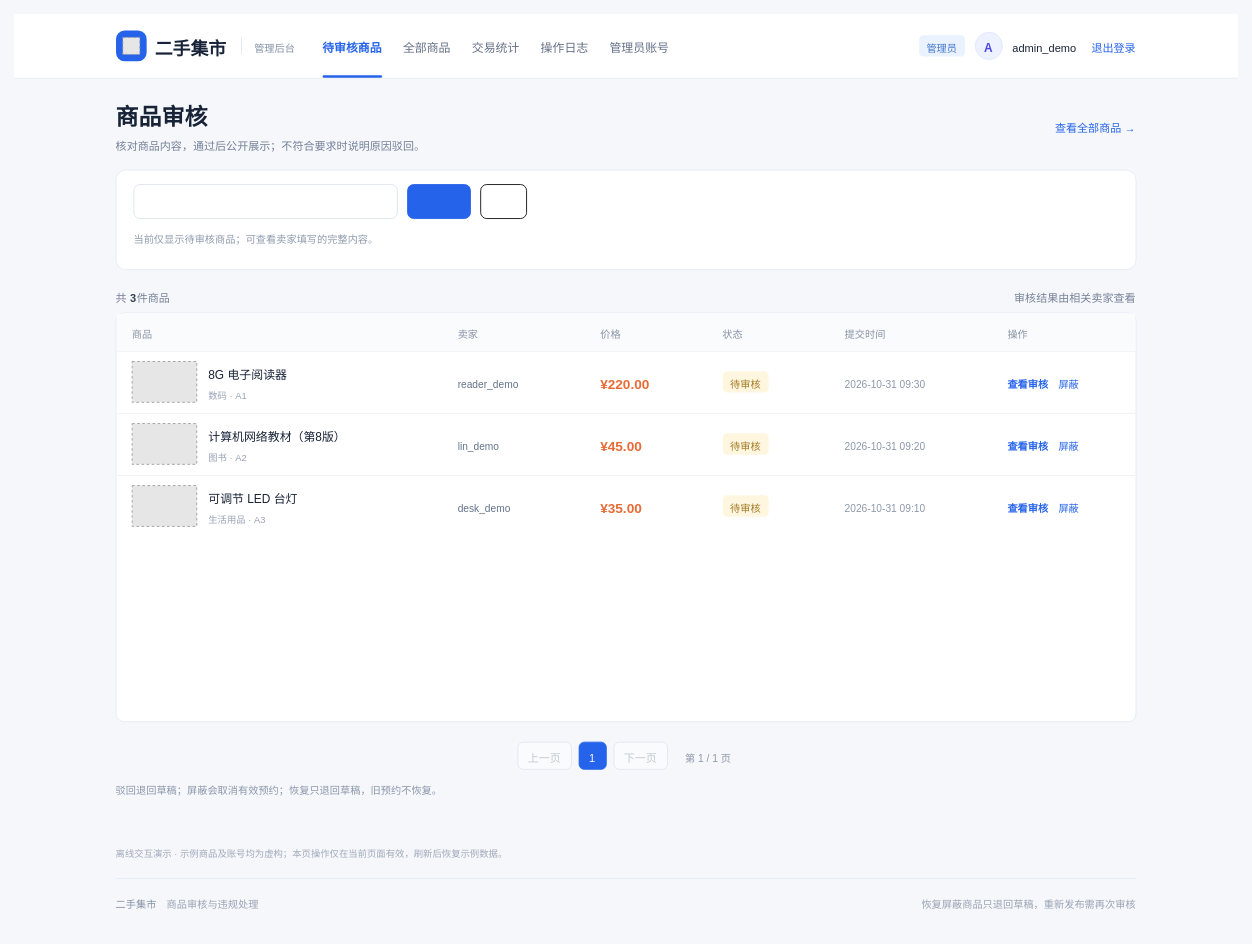
The diagram is 1252 pixels wide and 944 high, and some of its shapes have lost their labels. Grey dashed boxes stand in for pictures. Here are the shapes that lost their labels. From the top down, the box of each, then its label:
(133, 184, 397, 219): 搜索商品名称
(407, 184, 470, 219): 查询
(480, 184, 527, 219): 重置
